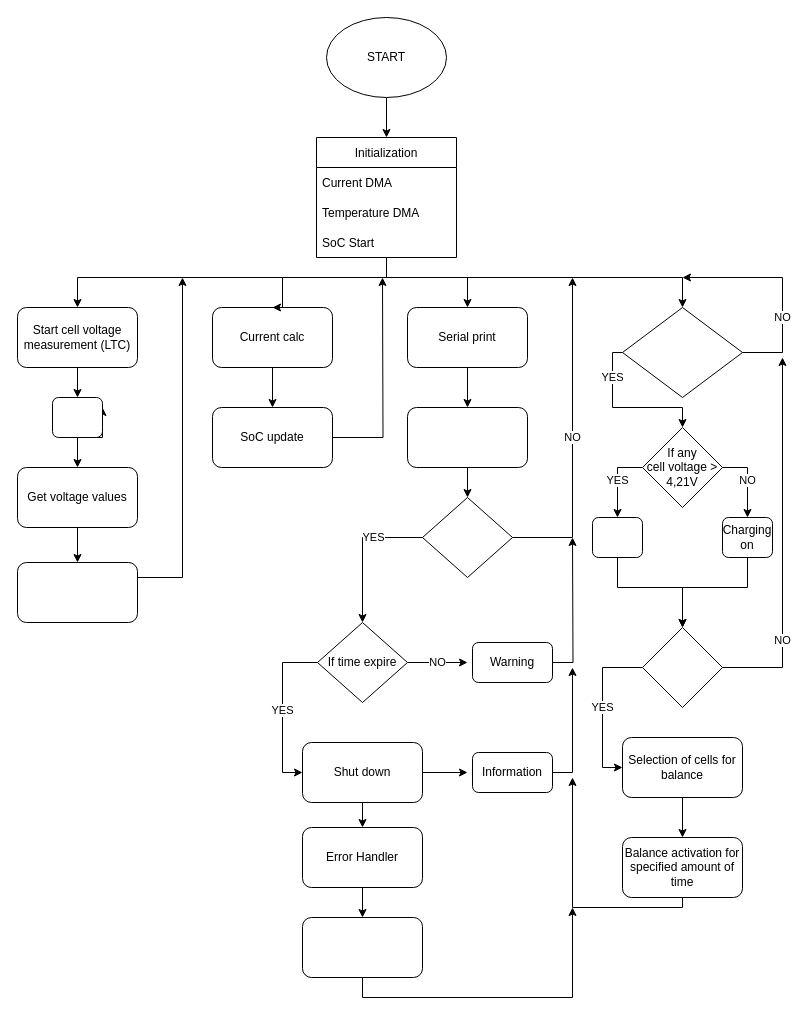
This 808x1023 diagram has some shape labels left out. Each missing label, with the box of its shape:
CAN tx: (406, 406, 528, 468)
Charging off: (592, 516, 642, 558)
delay 30ms: (52, 396, 102, 438)
If balance needed: (642, 626, 722, 708)
If error occurs: (422, 496, 512, 578)
If interlock on (chargerplugged): (622, 306, 742, 398)
Temperature calc: (16, 562, 138, 622)
Wait for key signal through serial to continue: (302, 916, 422, 978)
